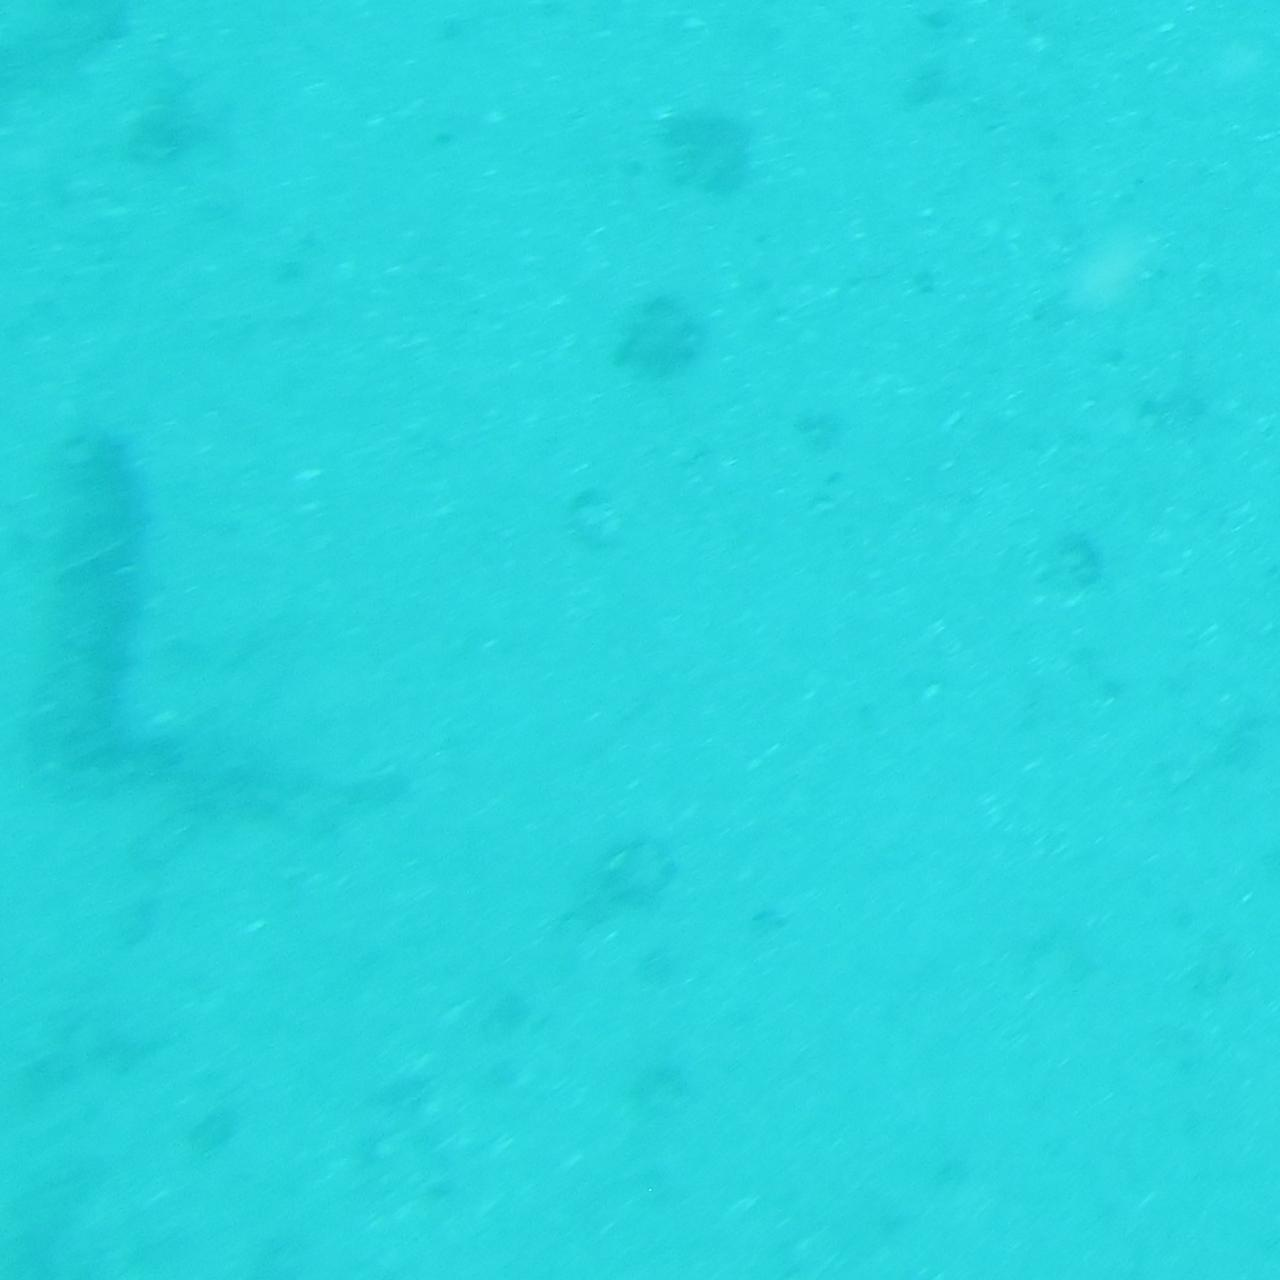Holothuria tubulosa: (0, 408, 150, 872)
